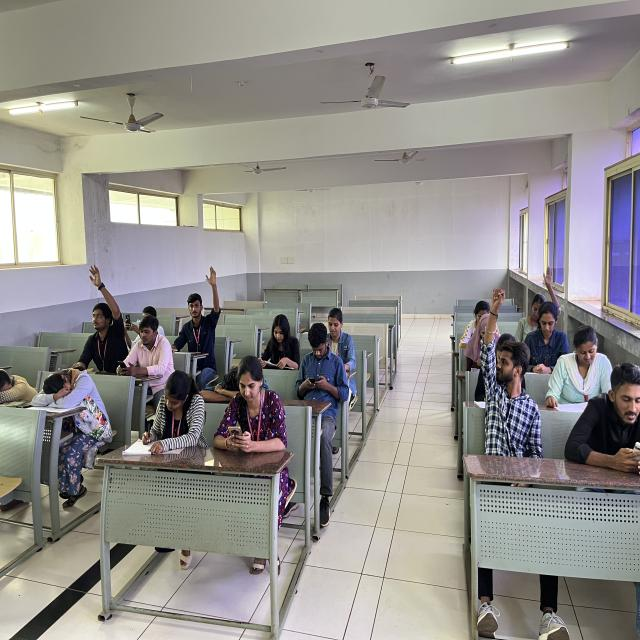Hand Rising: (458, 284, 553, 468)
Using Phone: (561, 344, 640, 480)
